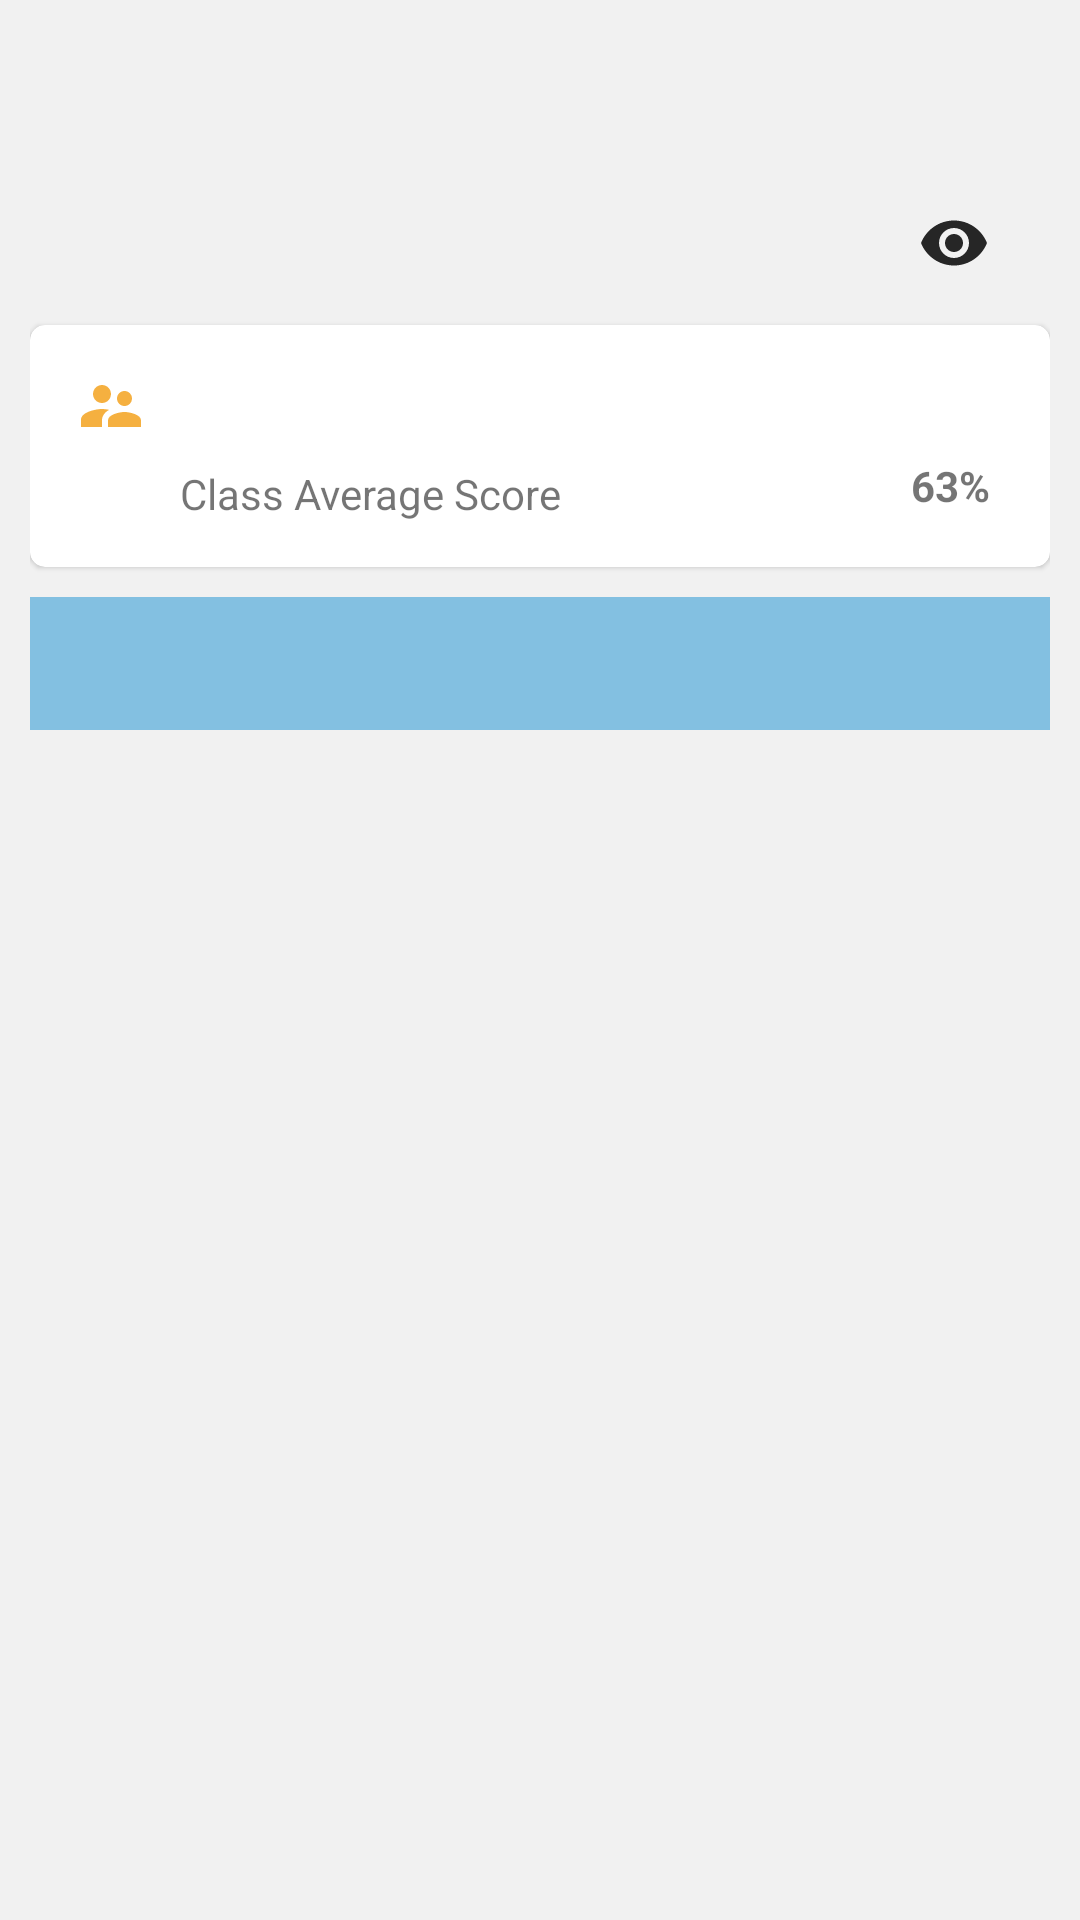

Icons on this 1080px x 1920px Android screen, each with the point to tap as point (x, y):
supervisor account: point (111, 406)
visibility: point (954, 243)
